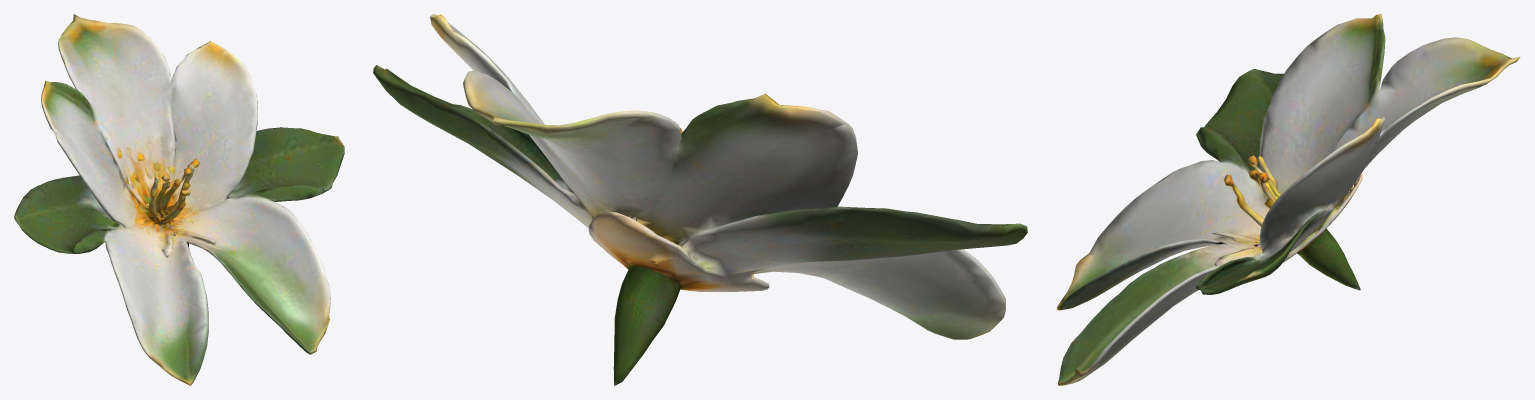
The picture shows the model from 3 angles, left to right: view 1: azimuth 30°, elevation 25°; view 2: azimuth 150°, elevation 25°; view 3: azimuth 270°, elevation 25°; orthographic projection. The views are drawn at different scales.
Bounding box in the file's own units: 2 × 1.33 × 1.91.
Materials: 1 (1 with a texture image).
